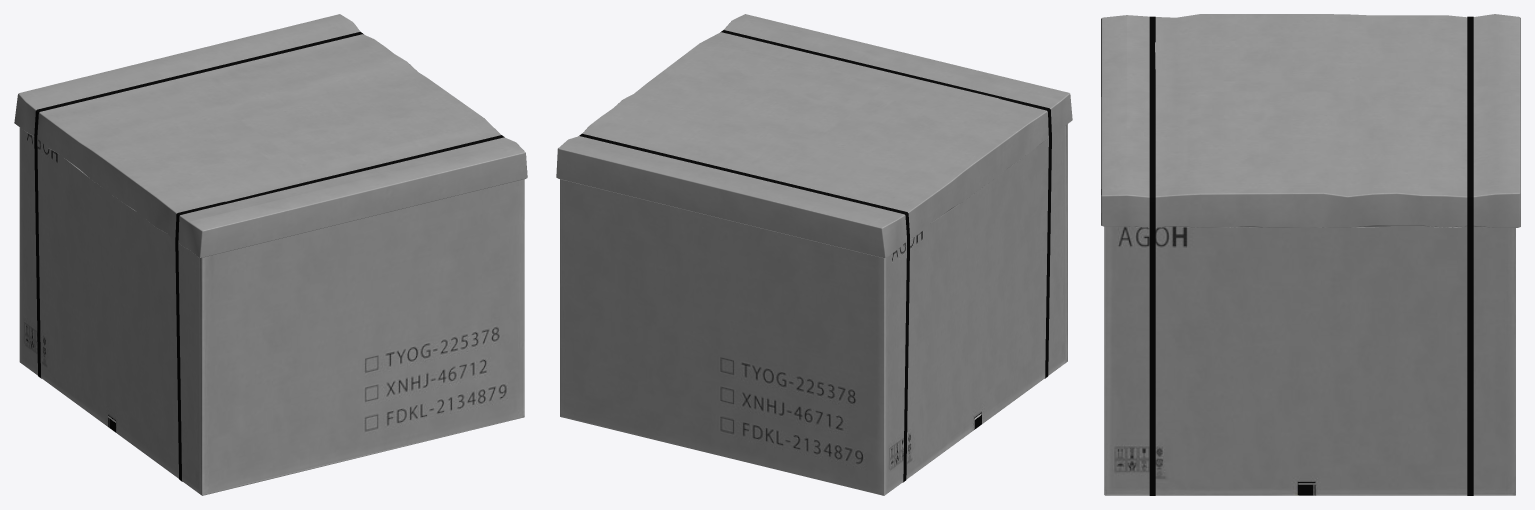
File: Cardboard_A1.glb
3 renders of one model, left to right at view 1: azimuth 30°, elevation 25°; view 2: azimuth 150°, elevation 25°; view 3: azimuth 270°, elevation 25°, orthographic. The views are drawn at different scales.
Parts seen in each view (by area): view 1: Cardboard_A; view 2: Cardboard_A; view 3: Cardboard_A.
Boxes of the visible parts, <box> form: Cardboard_A: <box>14,14,527,495</box>; Cardboard_A: <box>556,14,1072,495</box>; Cardboard_A: <box>1101,14,1520,495</box>.
Bounding box in the file's own units: 1.05 × 0.8174 × 1.03.
1 material, 1 textured.
